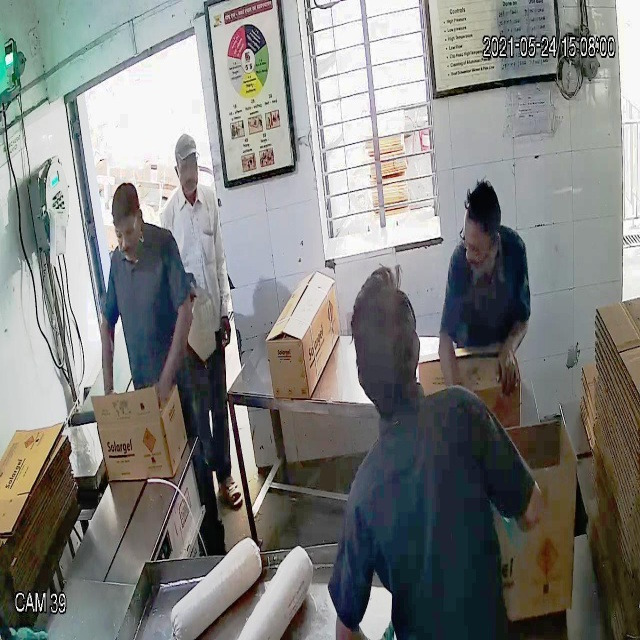Gafas: (110, 216, 139, 248)
Sin_gafas: (175, 155, 202, 176)
